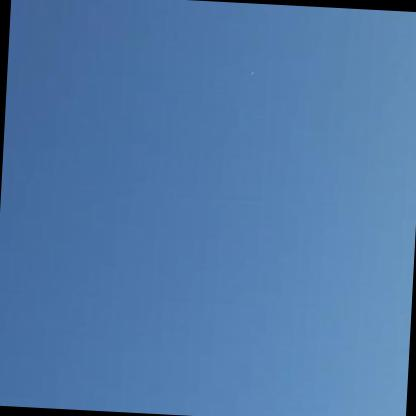plane: (247, 68, 259, 75)
